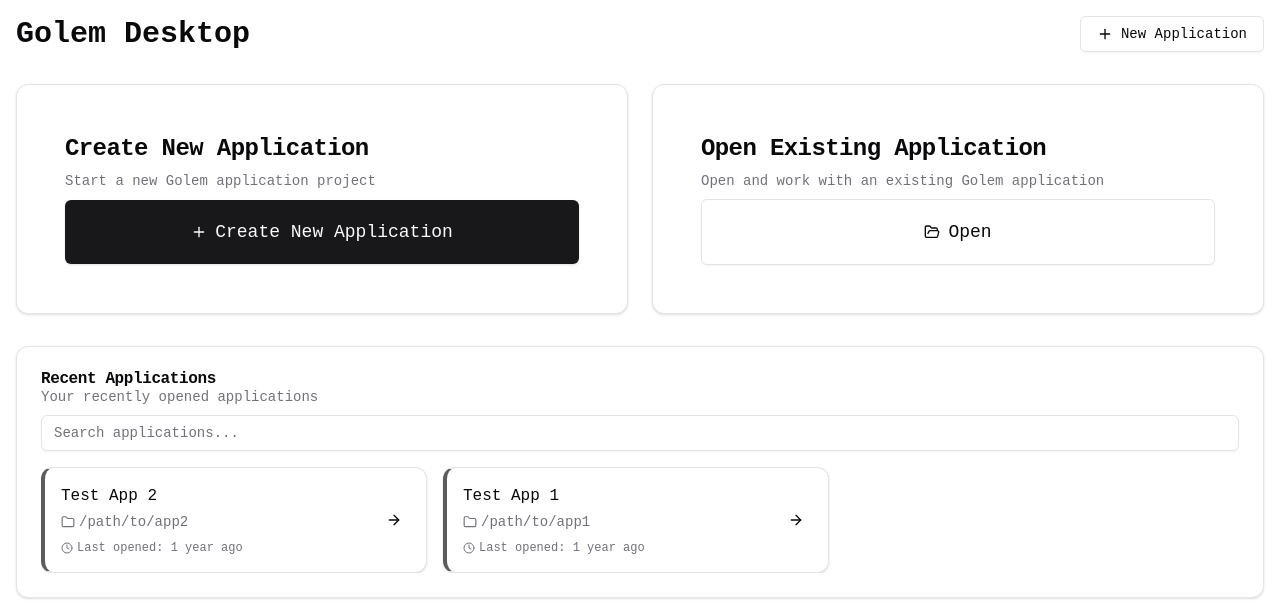
Test: Home Page › App search functionality › should filter apps based on search term
Check: the heading "Test App 1" is shown, box [463,487,559,505]
Check: the heading "Test App 2" is shown, box [61,487,157,505]
Type "Test App 1" into the field with placeholder "Search applications..." at (640, 433), box [41,415,1239,451]
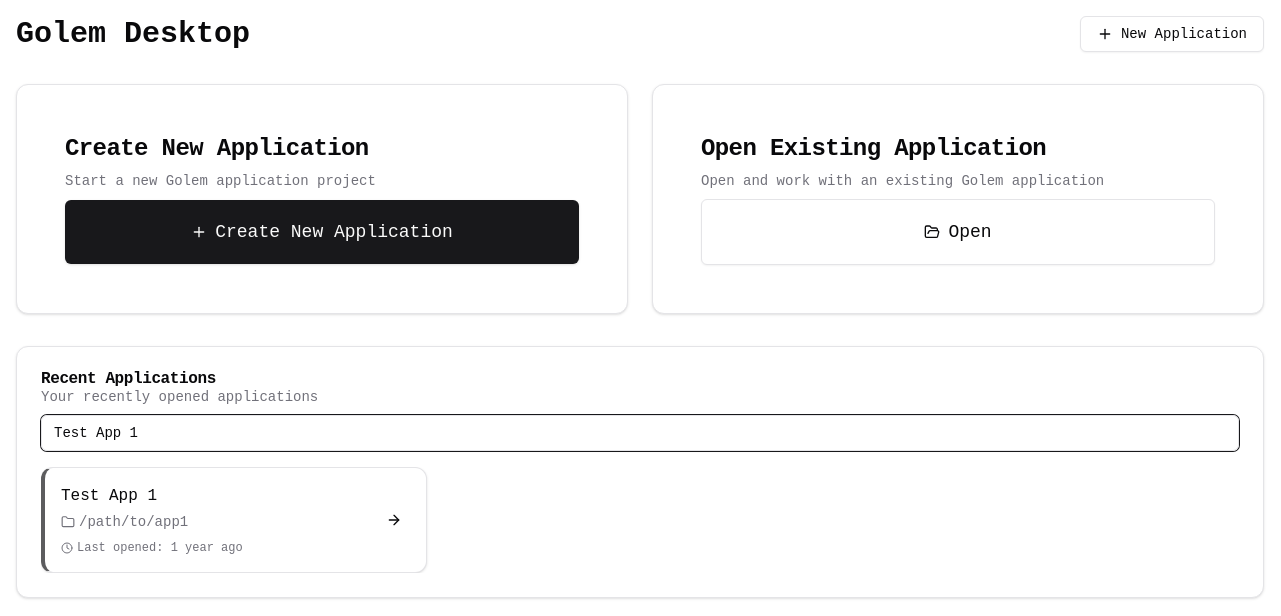
Check: the heading "Test App 1" is shown, box [61,487,157,505]
Check: the heading "Test App 2" is gone
